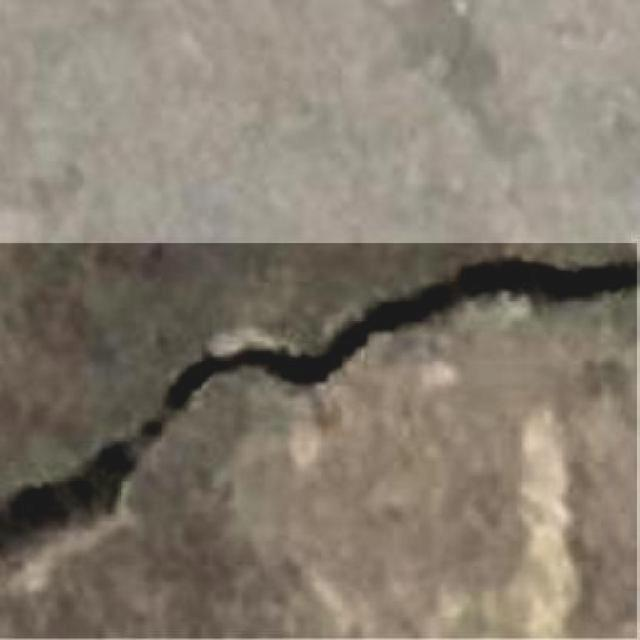crack: (0, 232, 640, 594)
